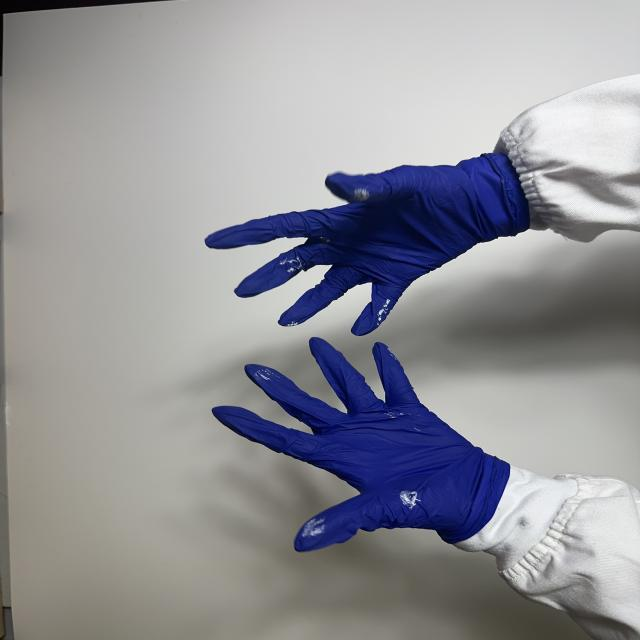gloves_contaminated: (212, 338, 510, 552), (206, 152, 530, 336)
